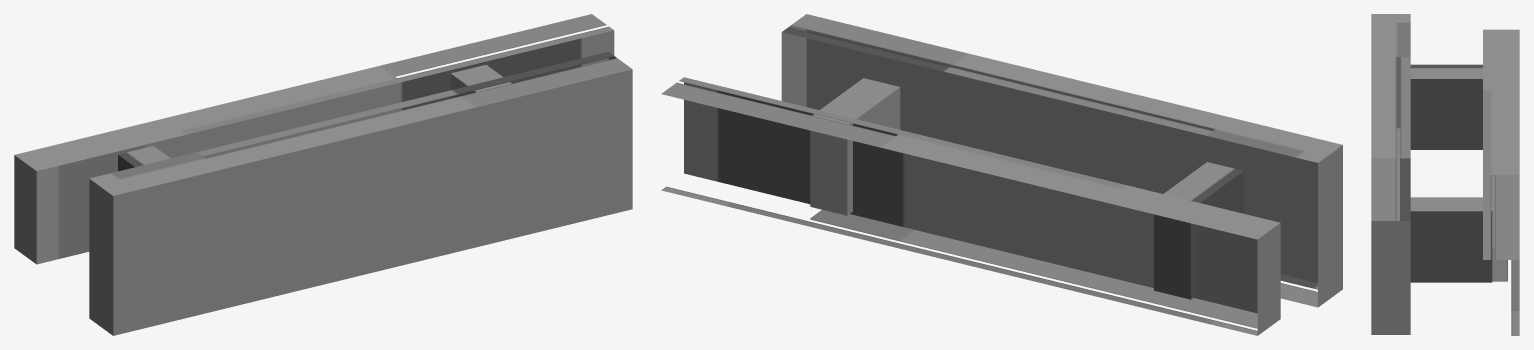
The picture shows the model from 3 angles, left to right: view 1: azimuth 30°, elevation 25°; view 2: azimuth 150°, elevation 25°; view 3: azimuth 270°, elevation 25°; orthographic projection. The views are drawn at different scales.
Bounding box in the file's own units: 0.8262 × 0.1912 × 0.2248.
